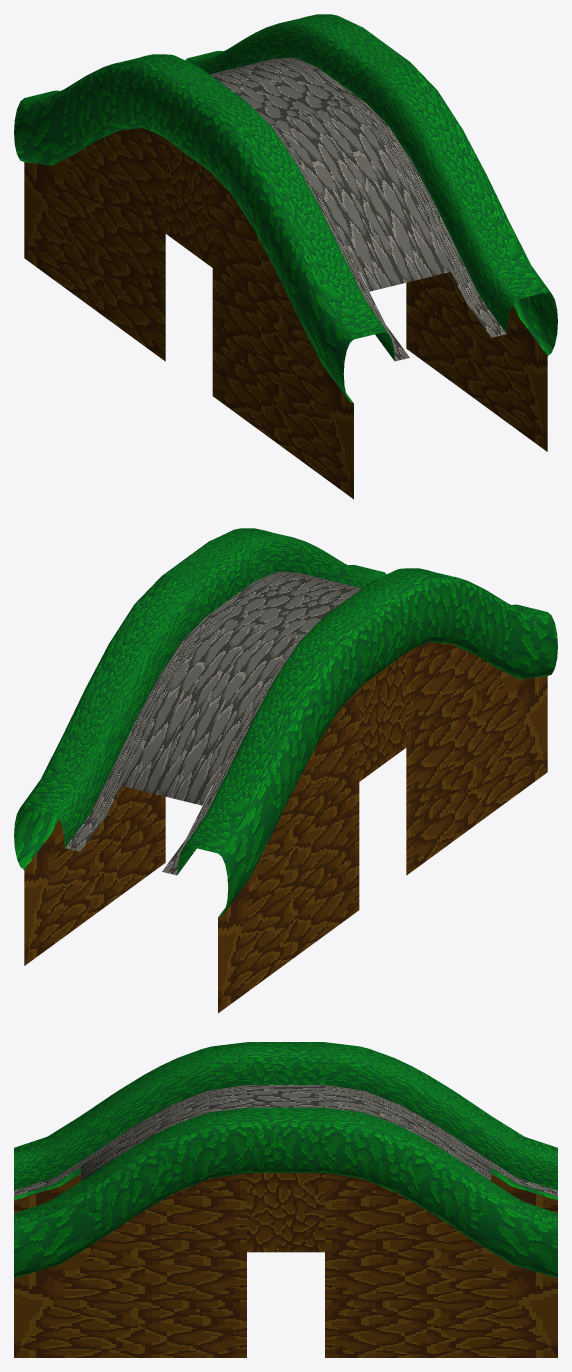
The model's file is CurveG.obj.
The picture shows the model from 3 angles, top to bottom: view 1: azimuth 30°, elevation 25°; view 2: azimuth 150°, elevation 25°; view 3: azimuth 270°, elevation 25°; orthographic projection. The views are drawn at different scales.
Visible parts, largest first — view 1: Dirt_Wall.040_Dirt_Wall.019, Dirt_Wall.038_Dirt_Wall.019, Dirt_Wall.041_Dirt_Wall.019, Path.043_Path.033, Dirt_Wall.035_Dirt_Wall.018, Path.038_Path.073, Path.033_Path.073, Path.042_Path.033, Path.009_Path.033, Path.031_Path.074, Path.021_Path.035, Path.020_Path.073 (+2 smaller); view 2: Dirt_Wall.038_Dirt_Wall.019, Dirt_Wall.040_Dirt_Wall.019, Dirt_Wall.034_Dirt_Wall.019, Path.009_Path.033, Dirt_Wall.035_Dirt_Wall.018, Path.020_Path.073, Path.011_Path.073, Path.008_Path.033, Path.043_Path.033, Path.031_Path.074, Path.021_Path.035, Path.038_Path.073 (+2 smaller); view 3: Dirt_Wall.034_Dirt_Wall.019, Dirt_Wall.041_Dirt_Wall.019, Dirt_Wall.033_Dirt_Wall.018, Path.008_Path.033, Path.042_Path.033, Path.030_Path.035, Dirt_Wall.038_Dirt_Wall.019, Dirt_Wall.040_Dirt_Wall.019, Path.011_Path.073, Path.033_Path.073, Path.009_Path.033, Path.043_Path.033 (+3 smaller).
Boxes of the visible parts, x1,y1,x2,y2 form: Dirt_Wall.040_Dirt_Wall.019: (202,104,368,499); Dirt_Wall.038_Dirt_Wall.019: (14,58,180,361); Dirt_Wall.041_Dirt_Wall.019: (391,60,557,451); Path.043_Path.033: (350,64,532,337); Dirt_Wall.035_Dirt_Wall.018: (155,69,227,267); Path.038_Path.073: (310,106,450,281); Path.033_Path.073: (271,116,409,291); Path.042_Path.033: (228,100,409,361); Path.009_Path.033: (185,18,343,74); Path.031_Path.074: (231,72,349,125); Path.021_Path.035: (303,30,390,106); Path.020_Path.073: (214,61,302,81); Dirt_Wall.038_Dirt_Wall.019: (203,618,369,1013); Dirt_Wall.040_Dirt_Wall.019: (391,572,557,875); Dirt_Wall.034_Dirt_Wall.019: (14,574,180,965); Path.009_Path.033: (39,578,221,851); Dirt_Wall.035_Dirt_Wall.018: (344,583,416,781); Path.020_Path.073: (121,620,261,795); Path.011_Path.073: (162,630,300,805); Path.008_Path.033: (162,614,343,875); Path.043_Path.033: (228,532,386,588); Path.031_Path.074: (222,586,340,639); Path.021_Path.035: (181,544,268,620); Path.038_Path.073: (269,575,357,595); Dirt_Wall.034_Dirt_Wall.019: (325,1114,557,1357); Dirt_Wall.041_Dirt_Wall.019: (14,1114,246,1357); Dirt_Wall.033_Dirt_Wall.018: (247,1114,324,1252); Path.008_Path.033: (325,1048,557,1196); Path.042_Path.033: (14,1048,246,1196); Path.030_Path.035: (247,1048,324,1090); Dirt_Wall.038_Dirt_Wall.019: (325,1042,557,1213); Dirt_Wall.040_Dirt_Wall.019: (14,1042,246,1213); Path.011_Path.073: (325,1091,490,1180); Path.033_Path.073: (81,1091,246,1180); Path.009_Path.033: (325,1108,557,1219); Path.043_Path.033: (14,1108,246,1219).
Bounding box in the file's own units: 5.25 × 6.75 × 14.
10 materials, 10 textured.
